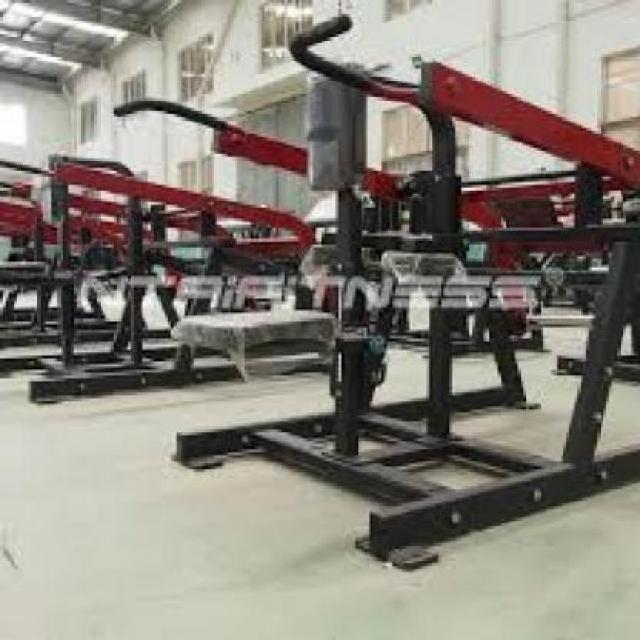seated dip machine: (114, 12, 640, 570)
